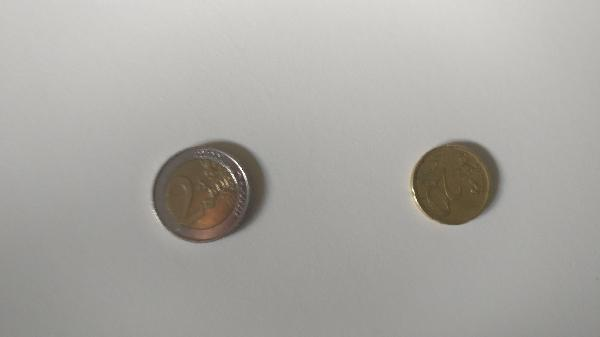Twenty Cent: (411, 144, 495, 226)
Two Euro: (151, 148, 250, 244)
